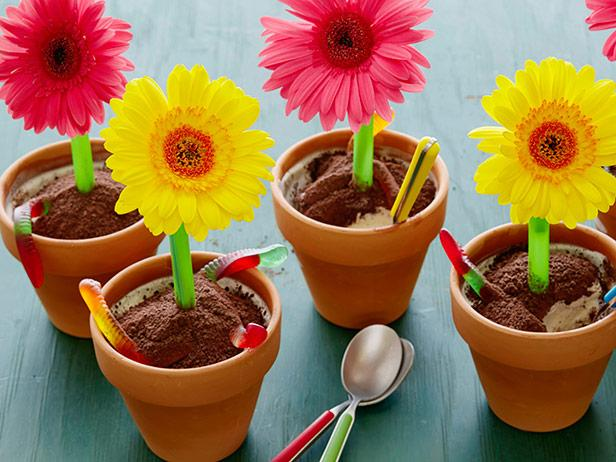tire: (89, 252, 282, 462), (450, 220, 616, 433), (272, 128, 449, 327), (1, 139, 163, 339)
